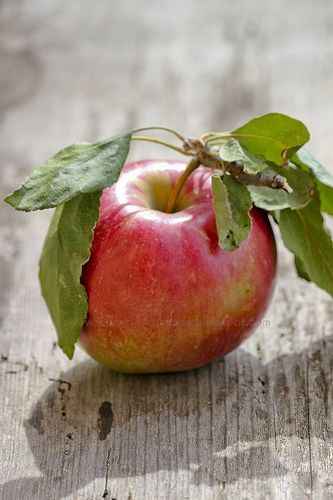apple/: (47, 144, 298, 391)
